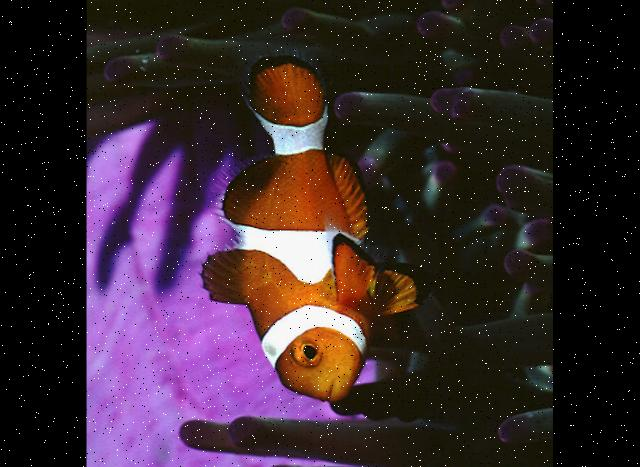Mulut: (297, 362, 360, 418)
Sirip Anal: (318, 132, 378, 237)
Sirip Dada: (322, 234, 384, 317)
Sirip Ekor: (218, 30, 349, 146)
Sirip Perut: (368, 254, 439, 330)
Sirip Punggung: (192, 144, 280, 320)
